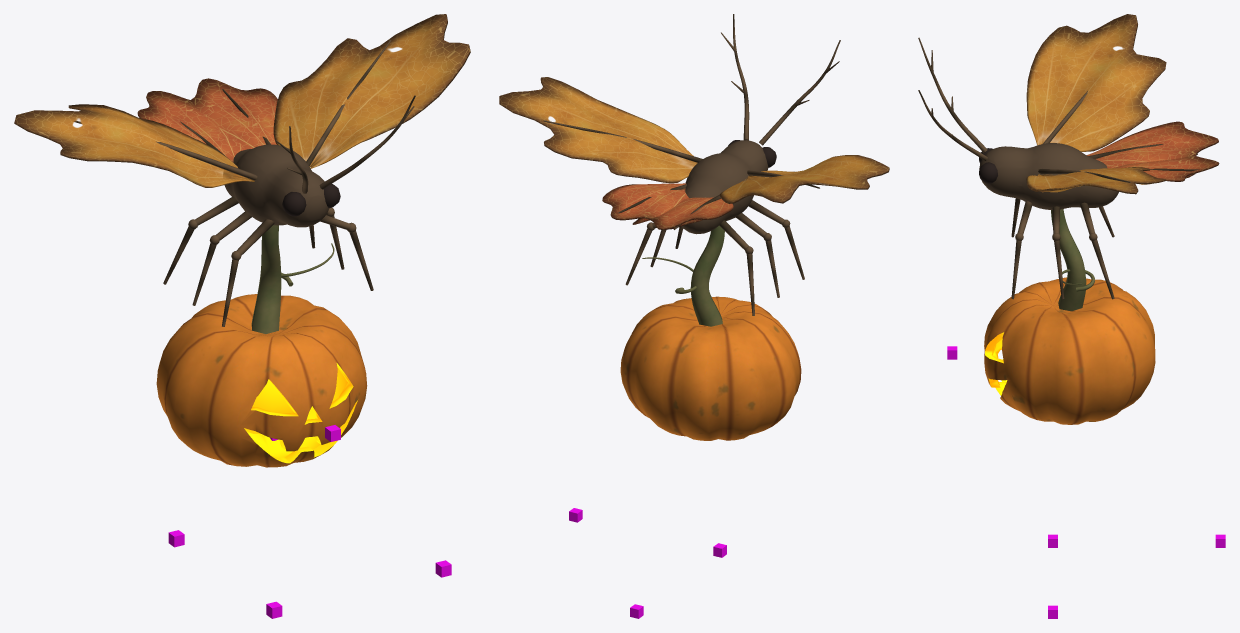
File: 04_zucca_infestata.glb
The picture shows the model from 3 angles, left to right: view 1: azimuth 30°, elevation 25°; view 2: azimuth 150°, elevation 25°; view 3: azimuth 270°, elevation 25°; orthographic projection. The views are drawn at different scales.
Parts seen in each view (by area): view 1: Zucca__Buccia, Zucca__Ali_Foglie_Morte, Zucca__Ali_Foglie_Rosse, Zucca__Rametti, Zucca__Falena_Pelo, Zucca__Gambo, Zucca__Polpa_Accesa, Zucca__Occhi_Falena, Zucca__Luce_Interna; view 2: Zucca__Buccia, Zucca__Ali_Foglie_Morte, Zucca__Rametti, Zucca__Ali_Foglie_Rosse, Zucca__Falena_Pelo, Zucca__Gambo; view 3: Zucca__Buccia, Zucca__Ali_Foglie_Morte, Zucca__Falena_Pelo, Zucca__Ali_Foglie_Rosse, Zucca__Rametti, Zucca__Gambo, Zucca__Polpa_Accesa.
Part boxes in pixels (left/top/right/bottom): Zucca__Buccia: left=156, top=294, right=367, bottom=467; Zucca__Ali_Foglie_Morte: left=14, top=14, right=470, bottom=187; Zucca__Ali_Foglie_Rosse: left=137, top=78, right=277, bottom=162; Zucca__Rametti: left=74, top=40, right=415, bottom=326; Zucca__Falena_Pelo: left=223, top=144, right=329, bottom=227; Zucca__Gambo: left=251, top=225, right=334, bottom=333; Zucca__Polpa_Accesa: left=247, top=363, right=357, bottom=463; Zucca__Occhi_Falena: left=282, top=184, right=340, bottom=216; Zucca__Luce_Interna: left=244, top=381, right=293, bottom=433; Zucca__Buccia: left=620, top=296, right=801, bottom=440; Zucca__Ali_Foglie_Morte: left=499, top=77, right=889, bottom=203; Zucca__Rametti: left=543, top=14, right=840, bottom=315; Zucca__Ali_Foglie_Rosse: left=602, top=183, right=733, bottom=230; Zucca__Falena_Pelo: left=681, top=140, right=768, bottom=234; Zucca__Gambo: left=642, top=225, right=724, bottom=326; Zucca__Buccia: left=984, top=277, right=1155, bottom=424; Zucca__Ali_Foglie_Morte: left=1026, top=14, right=1166, bottom=194; Zucca__Falena_Pelo: left=979, top=143, right=1118, bottom=209; Zucca__Ali_Foglie_Rosse: left=1087, top=121, right=1219, bottom=181; Zucca__Rametti: left=918, top=37, right=1204, bottom=299; Zucca__Gambo: left=1051, top=209, right=1094, bottom=311; Zucca__Polpa_Accesa: left=985, top=332, right=1007, bottom=395.
Bounding box in the file's own units: 3.83 × 4.76 × 2.75.
Materials: 10 (5 with a texture image).
